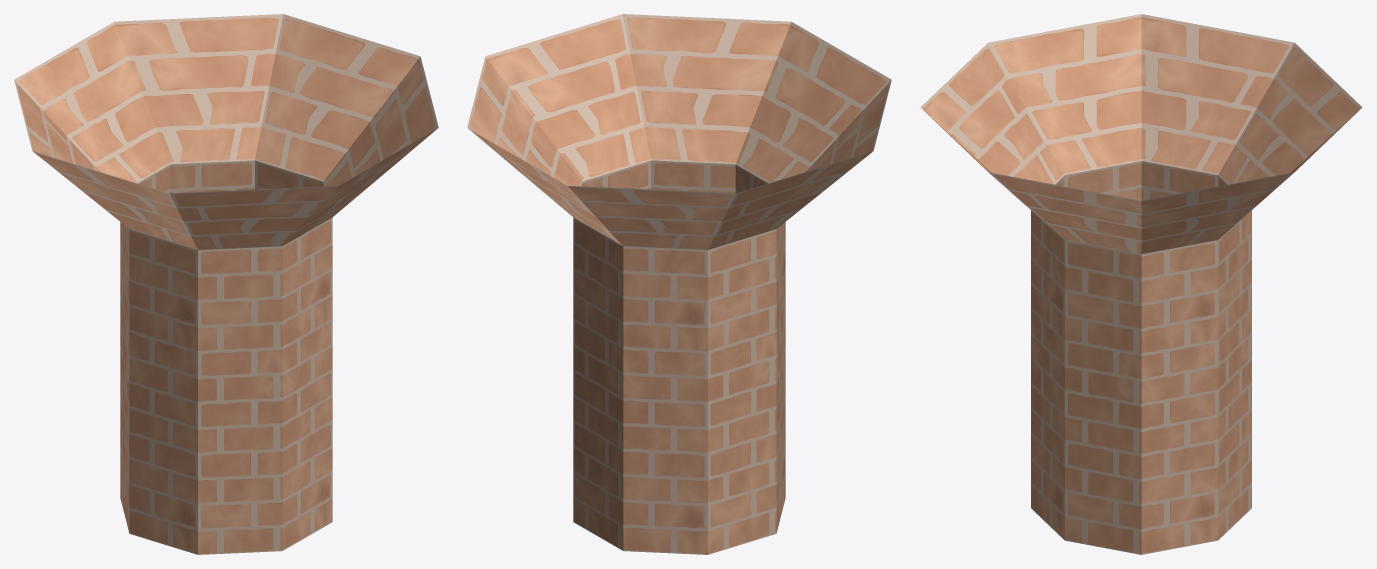
Rendered from Top_Temp_Pillar.fbx.
The picture shows the model from 3 angles, left to right: view 1: azimuth 30°, elevation 25°; view 2: azimuth 150°, elevation 25°; view 3: azimuth 270°, elevation 25°; orthographic projection.
Visible parts, largest first — view 1: Top_Temp_Pillar; view 2: Top_Temp_Pillar; view 3: Top_Temp_Pillar.
Part boxes in pixels (left/top/right/bottom): Top_Temp_Pillar: left=14, top=14, right=438, bottom=554; Top_Temp_Pillar: left=467, top=14, right=891, bottom=554; Top_Temp_Pillar: left=920, top=14, right=1362, bottom=554.
Size of the model in its own units: 100 by 100 by 100.
1 material, 1 textured.
